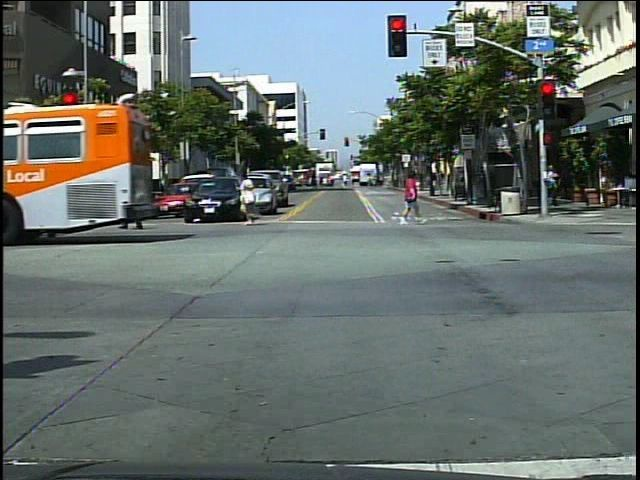person: (235, 166, 267, 230), (397, 166, 427, 230), (122, 170, 151, 236), (546, 162, 568, 212)
